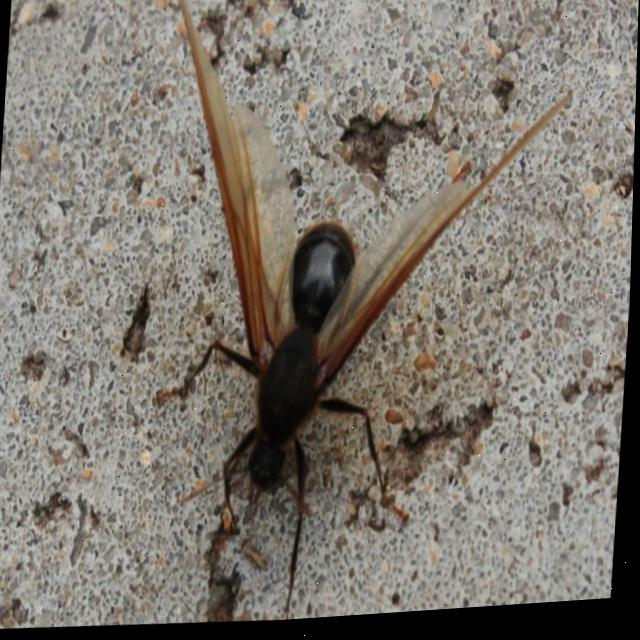Alive-Male-Alate: (122, 0, 574, 633)
